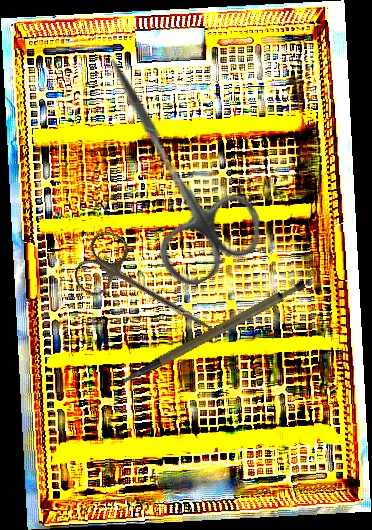Iris Scissors: (61, 34, 275, 295), (68, 225, 232, 357)
Scalpel Handle: (110, 277, 316, 385)
